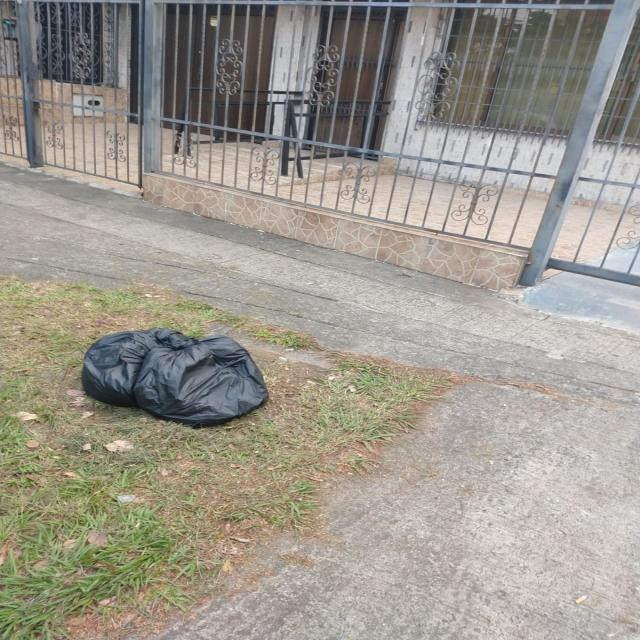Garbage_Bag: (68, 320, 282, 428)
